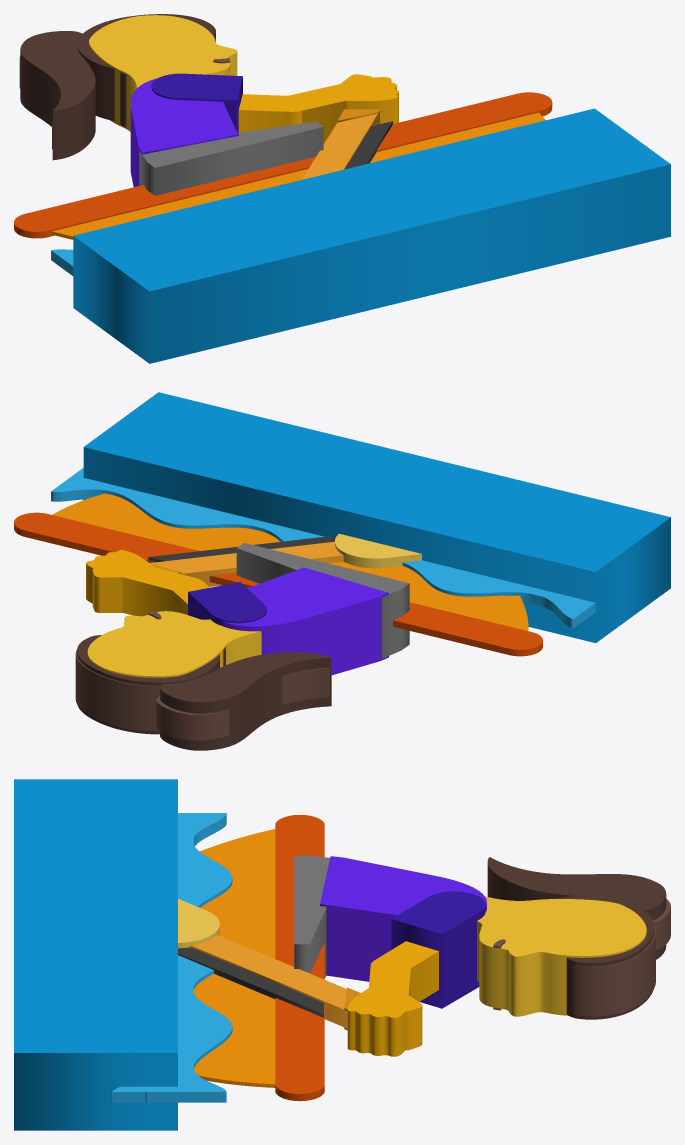
File: emoji_u1f6a3_200d_2640.glb
3 views of the same model, one above another, from view 1: azimuth 30°, elevation 25°; view 2: azimuth 150°, elevation 25°; view 3: azimuth 270°, elevation 25° (orthographic). The views are drawn at different scales.
Parts seen in each view (by area): view 1: emoji_u1f6a3_200d_2640; view 2: emoji_u1f6a3_200d_2640; view 3: emoji_u1f6a3_200d_2640.
Boxes of the visible parts, <box> form: emoji_u1f6a3_200d_2640: <box>14,14,670,363</box>; emoji_u1f6a3_200d_2640: <box>14,392,670,750</box>; emoji_u1f6a3_200d_2640: <box>14,779,670,1130</box>.
Size of the model in its own units: 0.0339 by 0.0044 by 0.0336.
